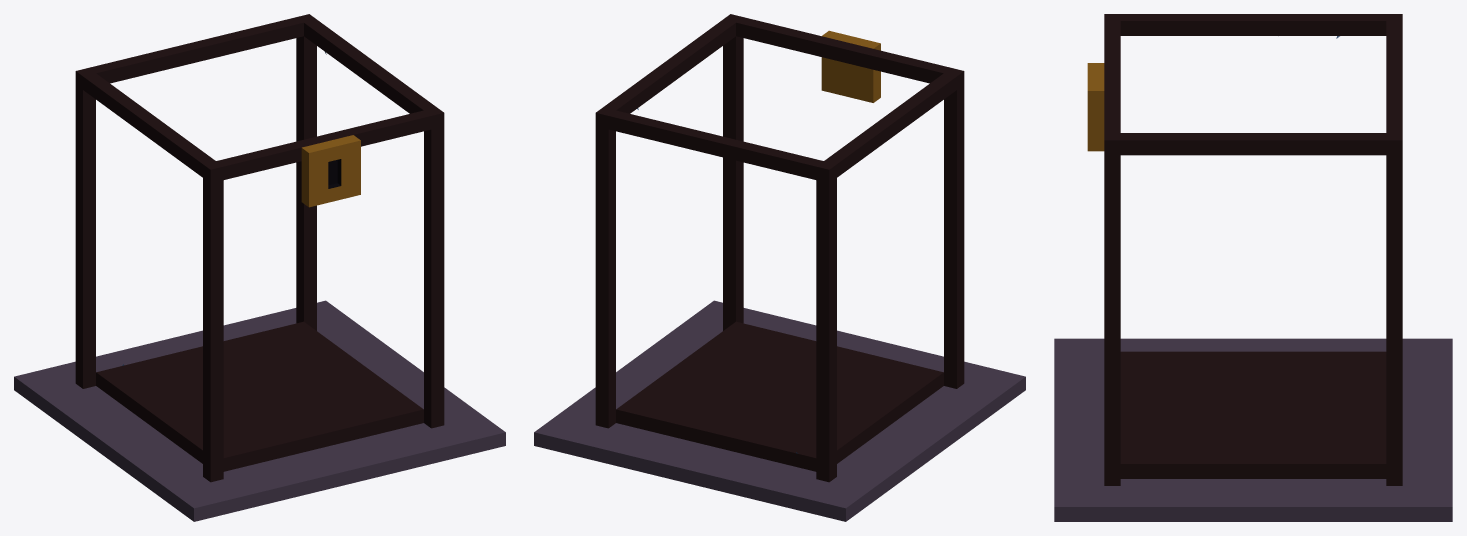
The model's file is displayCase_break.dae.
3 renders of one model, left to right at view 1: azimuth 30°, elevation 25°; view 2: azimuth 150°, elevation 25°; view 3: azimuth 270°, elevation 25°, orthographic. The views are drawn at different scales.
Visible parts, largest first — view 1: frame_MSH; view 2: frame_MSH; view 3: frame_MSH.
Boxes of the visible parts, x1,y1,x2,y2 form: frame_MSH: (14, 14, 505, 521); frame_MSH: (534, 14, 1025, 521); frame_MSH: (1054, 14, 1452, 521).
Size of the model in its own units: 1 by 1 by 1.
